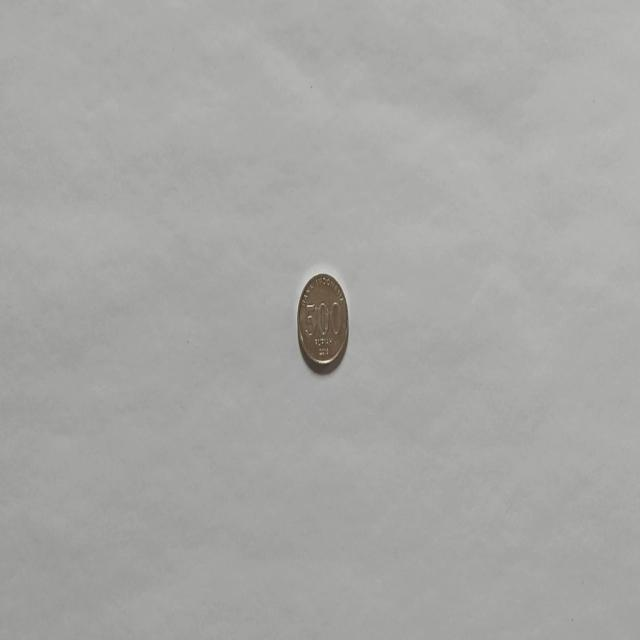lima ratus rupiah: (296, 271, 349, 373)
